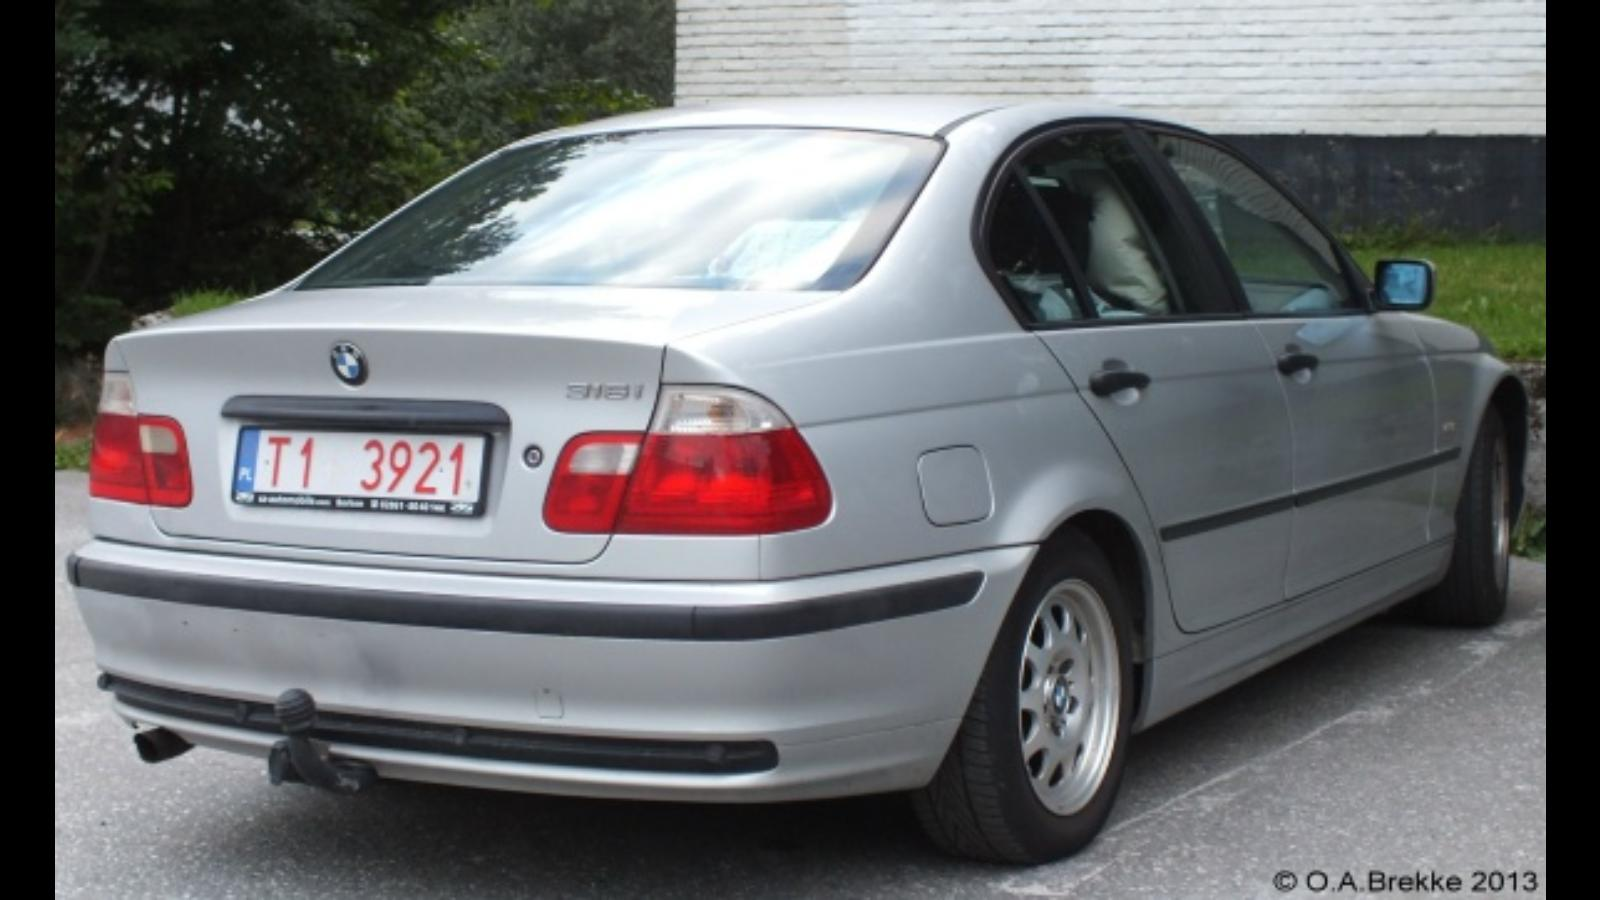plates: (230, 424, 494, 516)
